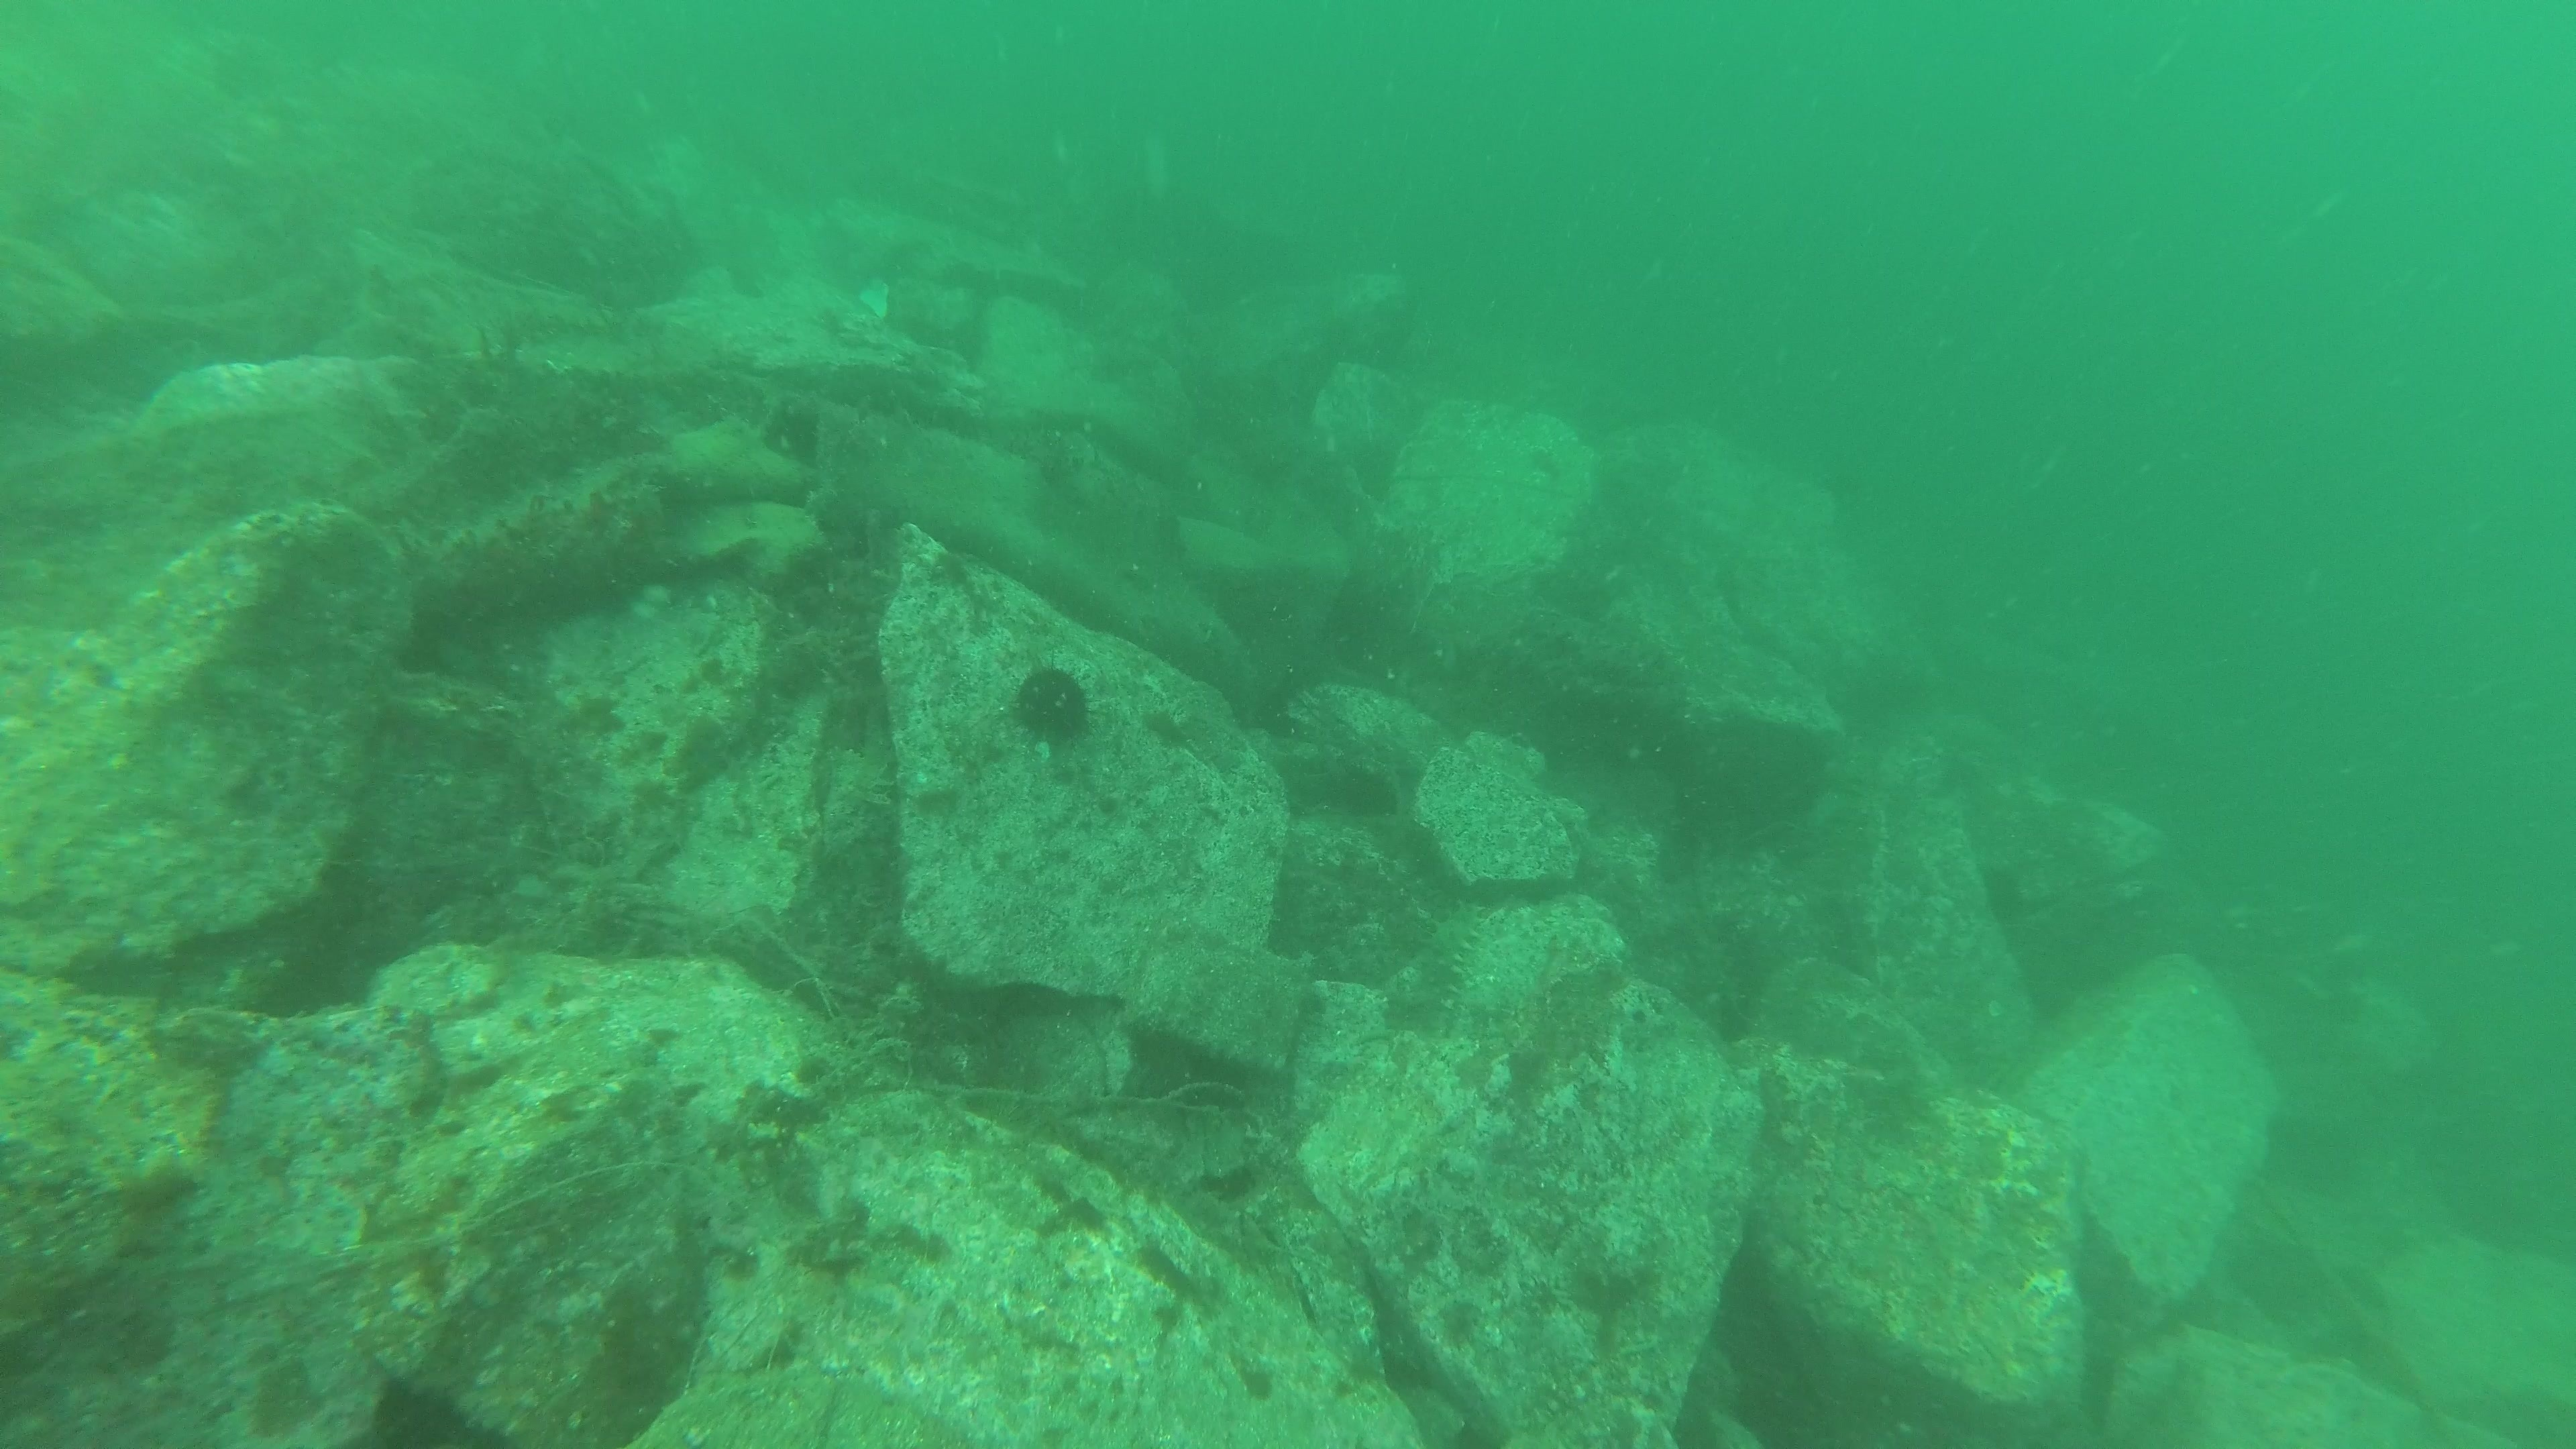echinus: (1001, 656, 1102, 754)
